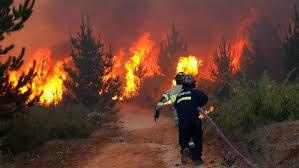fire: (99, 31, 166, 99), (3, 45, 74, 106), (174, 53, 203, 77), (196, 104, 214, 120)
